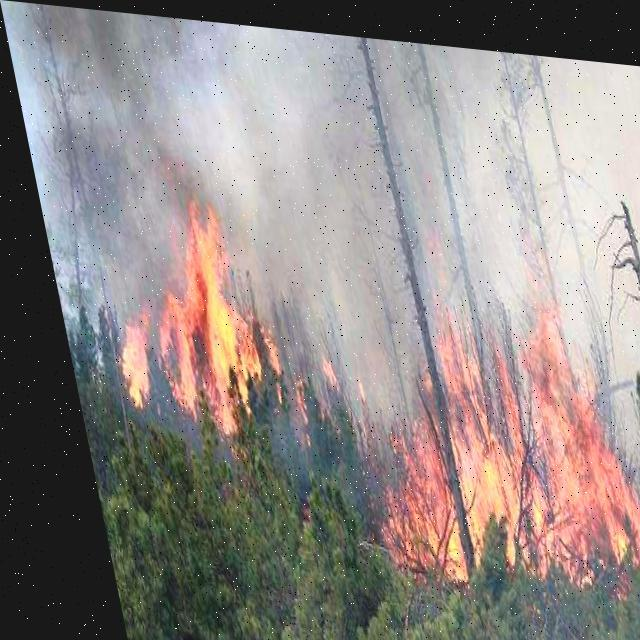Fire: (316, 270, 639, 607), (67, 158, 278, 453)
